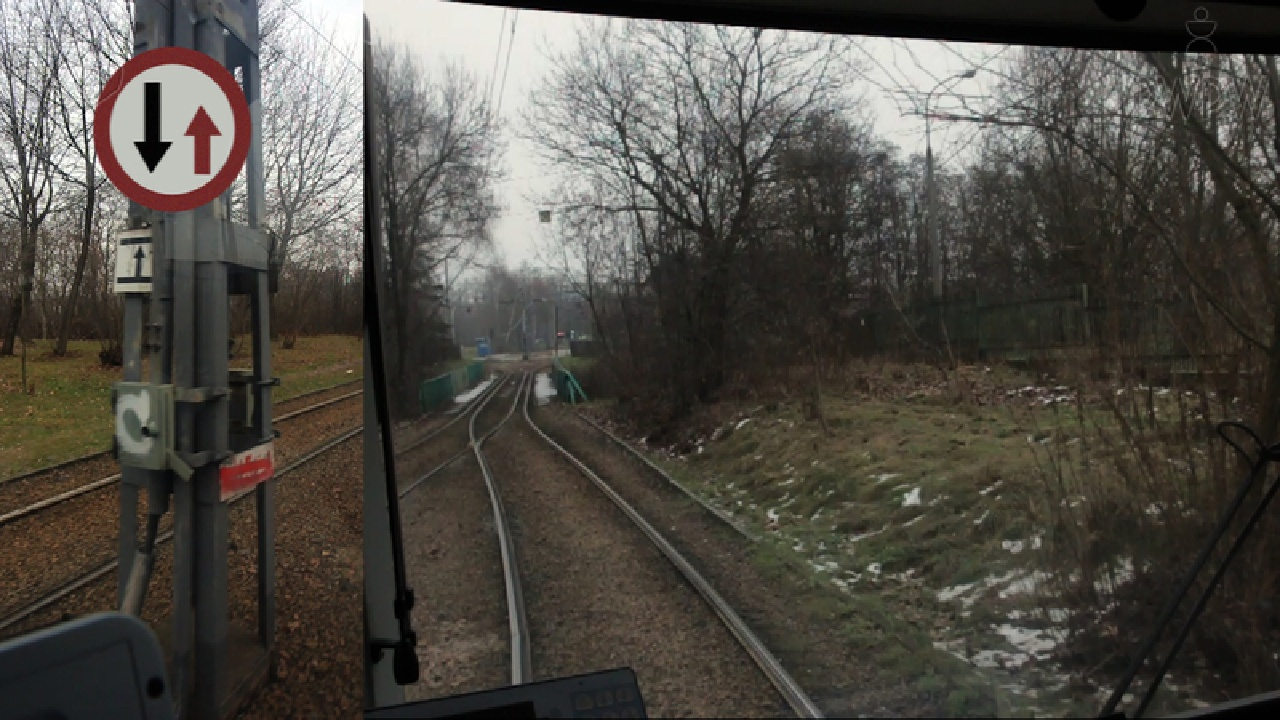B31: (92, 47, 252, 211)
